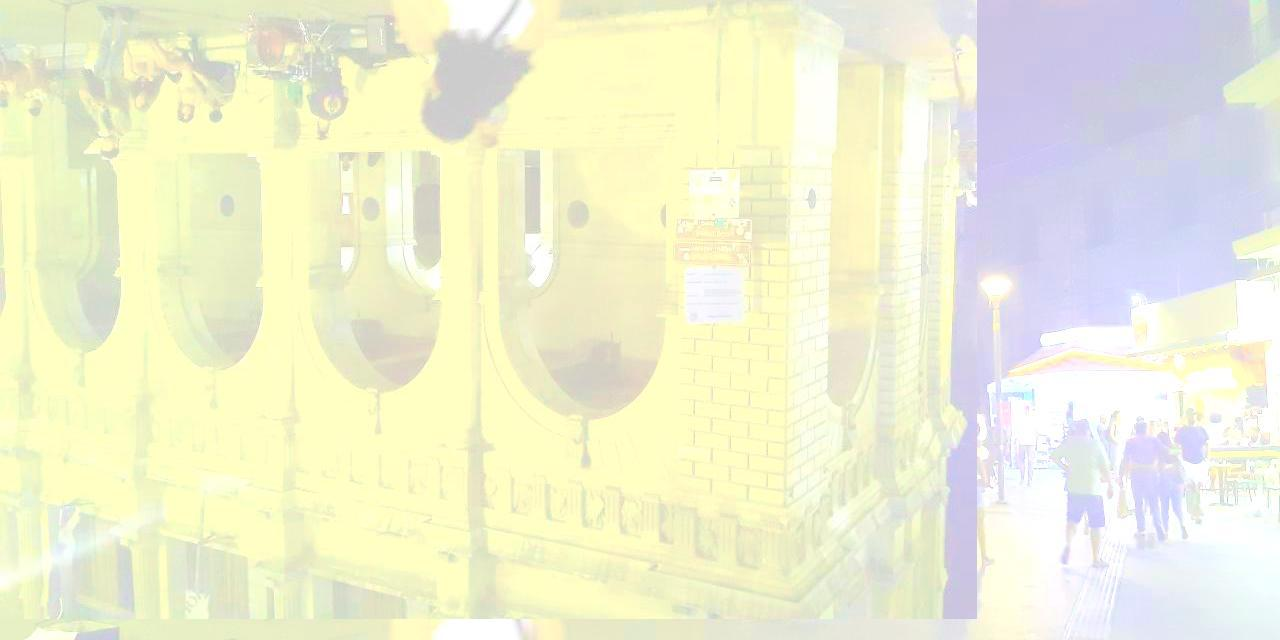Loggia: (1, 1, 978, 620)
